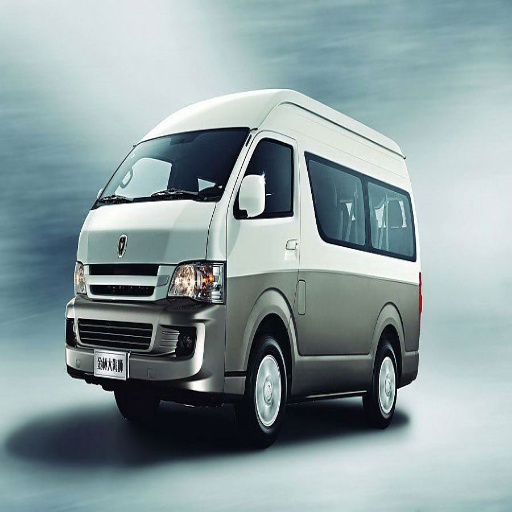front_bumper: (66, 262, 247, 392)
front_glass: (98, 128, 249, 204)
front_left_door: (229, 133, 299, 246)
trunk: (275, 272, 415, 381)
